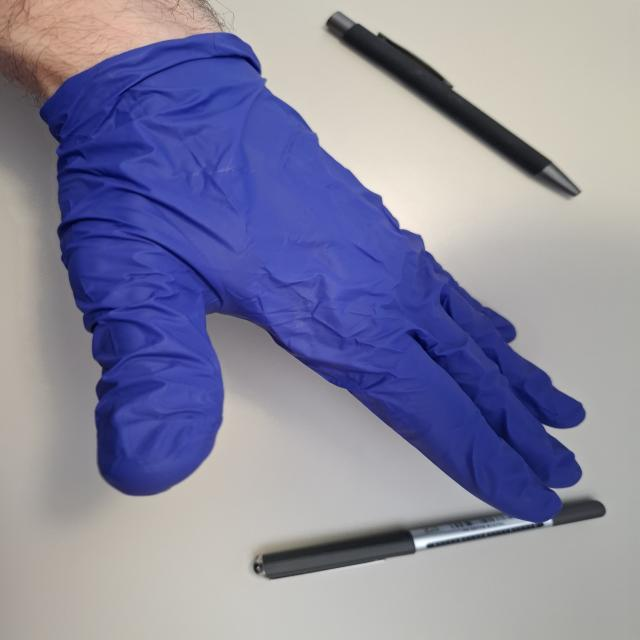glove_on: (39, 35, 591, 532)
